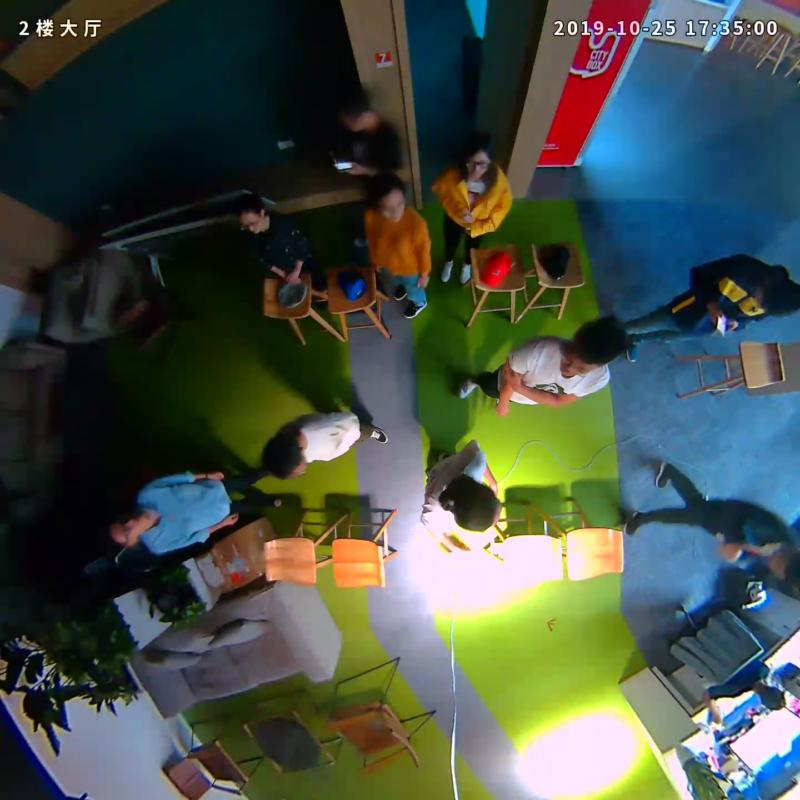head: (561, 319, 626, 378), (366, 173, 407, 226), (261, 434, 307, 481), (456, 486, 503, 532), (753, 275, 800, 317), (457, 133, 497, 181), (334, 93, 376, 135), (103, 509, 142, 554), (234, 193, 267, 234), (768, 548, 800, 585)
